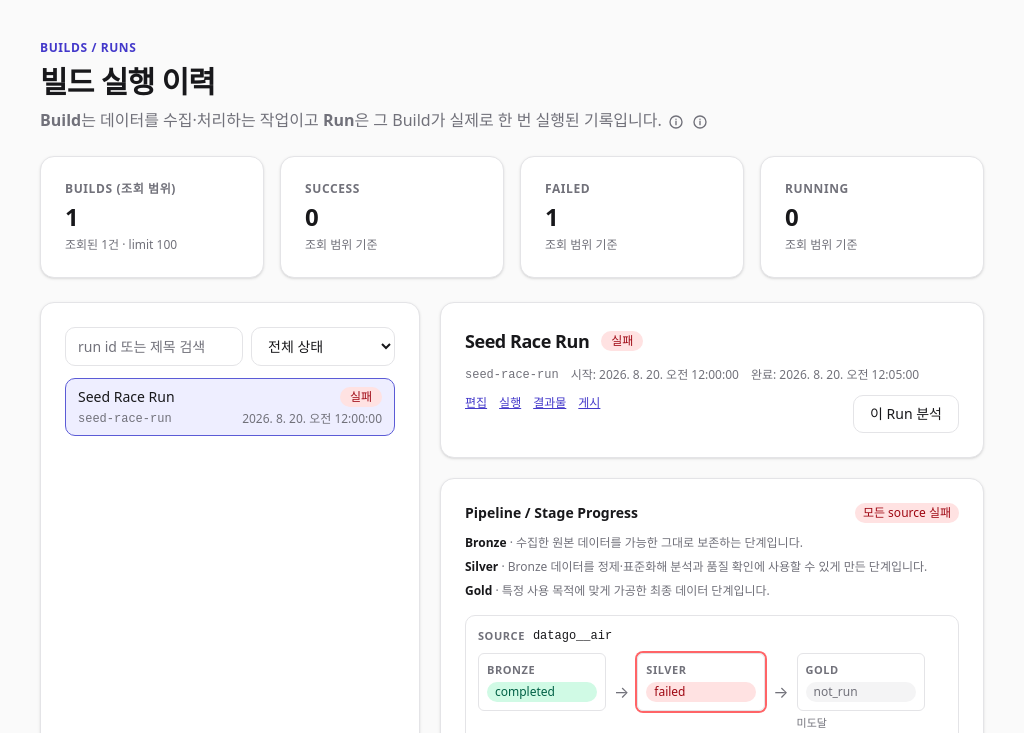
Scenario: C1 — Builds Kubi seed vs. context back-fill race › re-clicking '이 Run 분석' on the same run re-analyzes (retry after an errored analysis is not blocked)
The width and height of the screenshot is (1024, 733).
Click the button "이 Run 분석" at (906, 414), box [853,395,959,433]
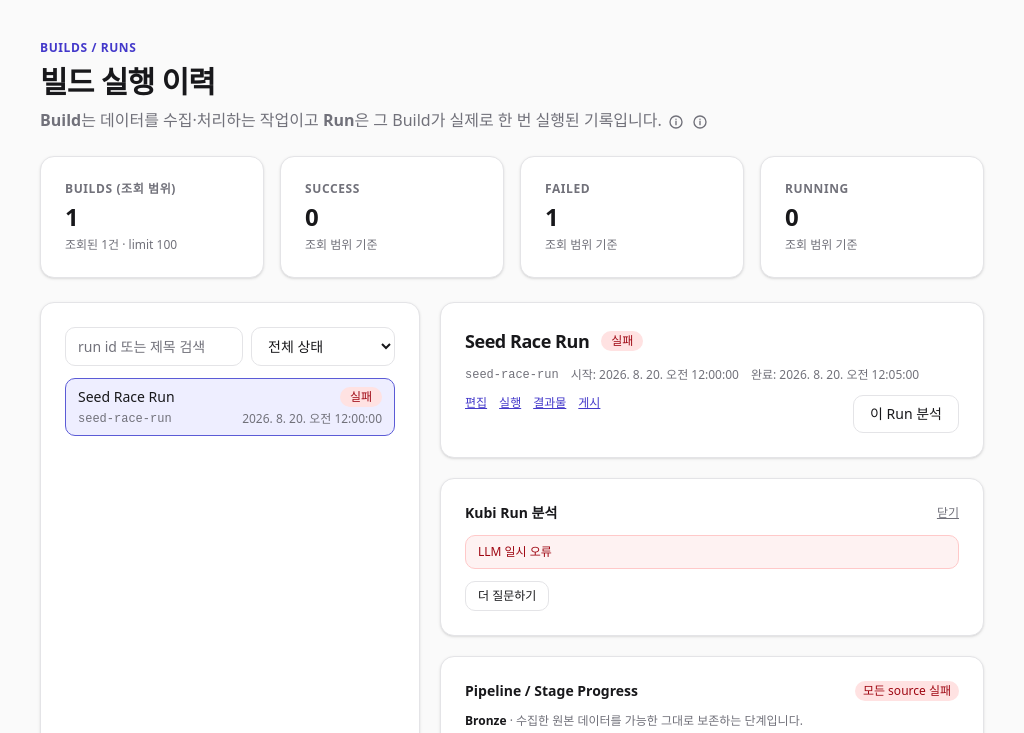
Expected: the text "LLM 일시 오류" is shown, [465,535,959,569]
# 재클릭 → 새 분석이 시작되고 이번엔 성공한다.
Click the button "이 Run 분석" at (906, 414), box [853,395,959,433]
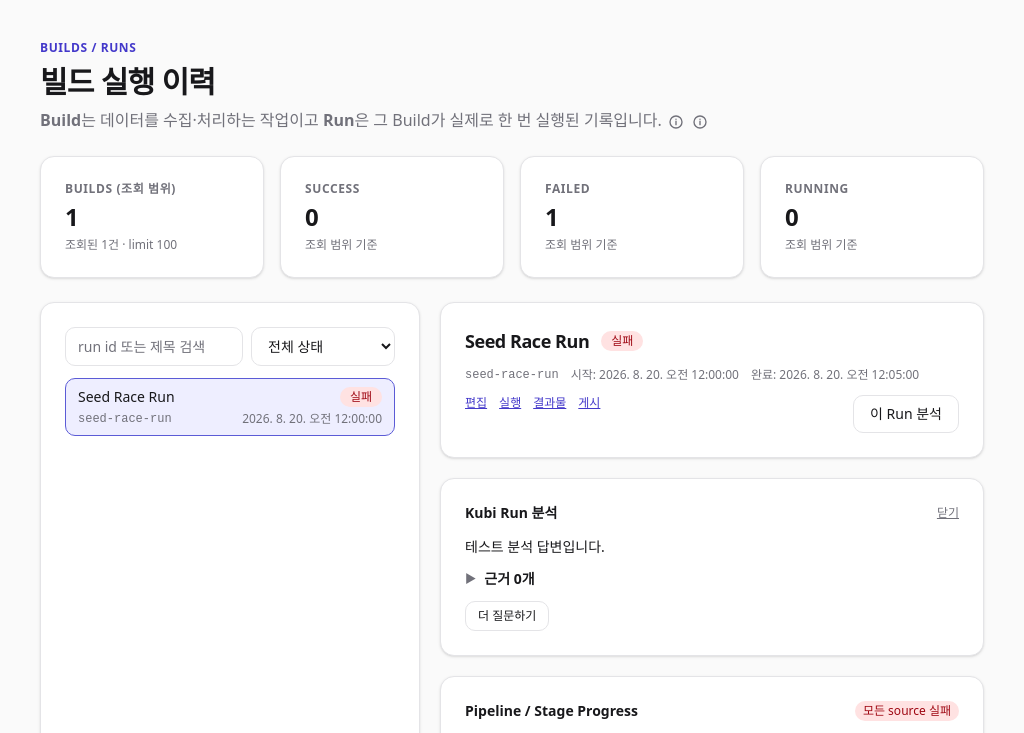
Expected: the text "테스트 분석 답변입니다." is shown, [465,537,605,556]
